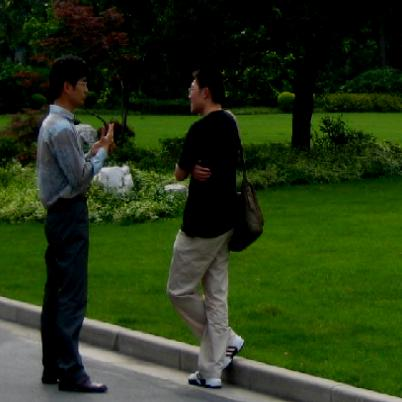ped: (38, 55, 116, 394), (167, 66, 244, 387)
